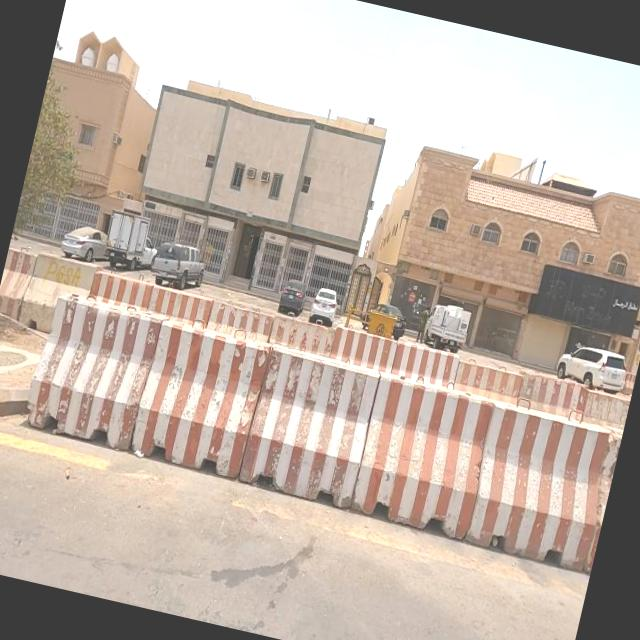debris: (455, 210, 640, 376)
